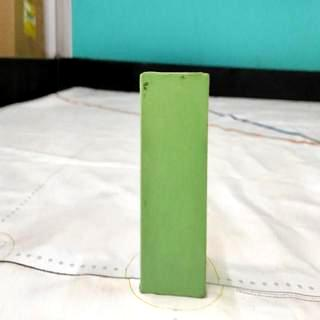greenbox: (140, 72, 208, 298)
